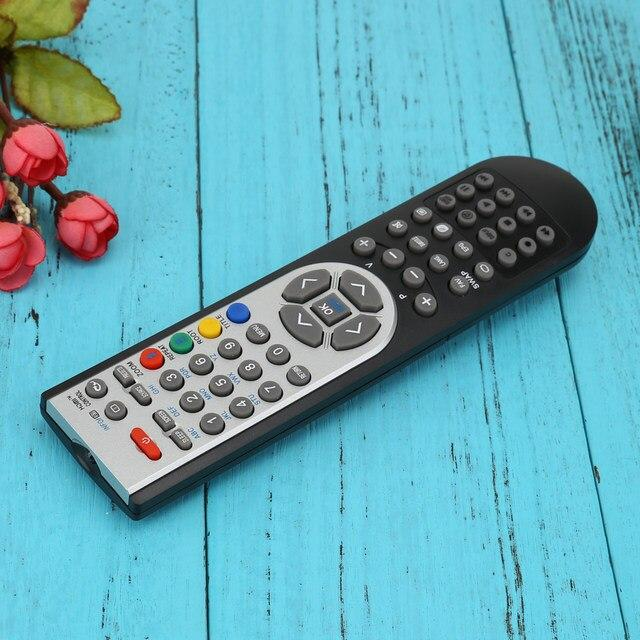remote: (28, 145, 600, 523)
